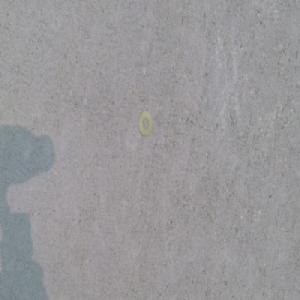Washer: (138, 113, 153, 140)
